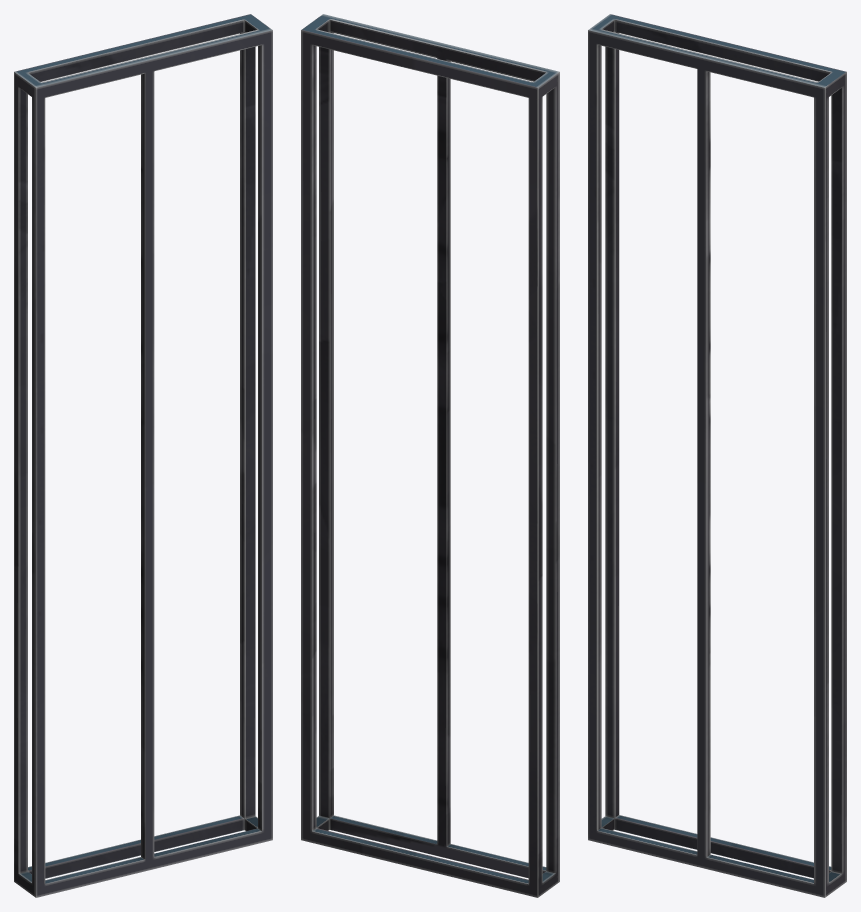
The model's file is Props-TextBanner-Hotel_FRAME.fbx.
3 views of the same model, side by side, from view 1: azimuth 30°, elevation 25°; view 2: azimuth 150°, elevation 25°; view 3: azimuth 330°, elevation 25° (orthographic).
Visible parts, largest first — view 1: Props-TextBanner-Hotel_FRAME; view 2: Props-TextBanner-Hotel_FRAME; view 3: Props-TextBanner-Hotel_FRAME.
Part boxes in pixels (x1,y1,x2,y2): Props-TextBanner-Hotel_FRAME: (14, 14, 272, 897); Props-TextBanner-Hotel_FRAME: (301, 14, 559, 897); Props-TextBanner-Hotel_FRAME: (588, 14, 846, 897).
Size of the model in its own units: 64.61 by 211 by 10.4.
